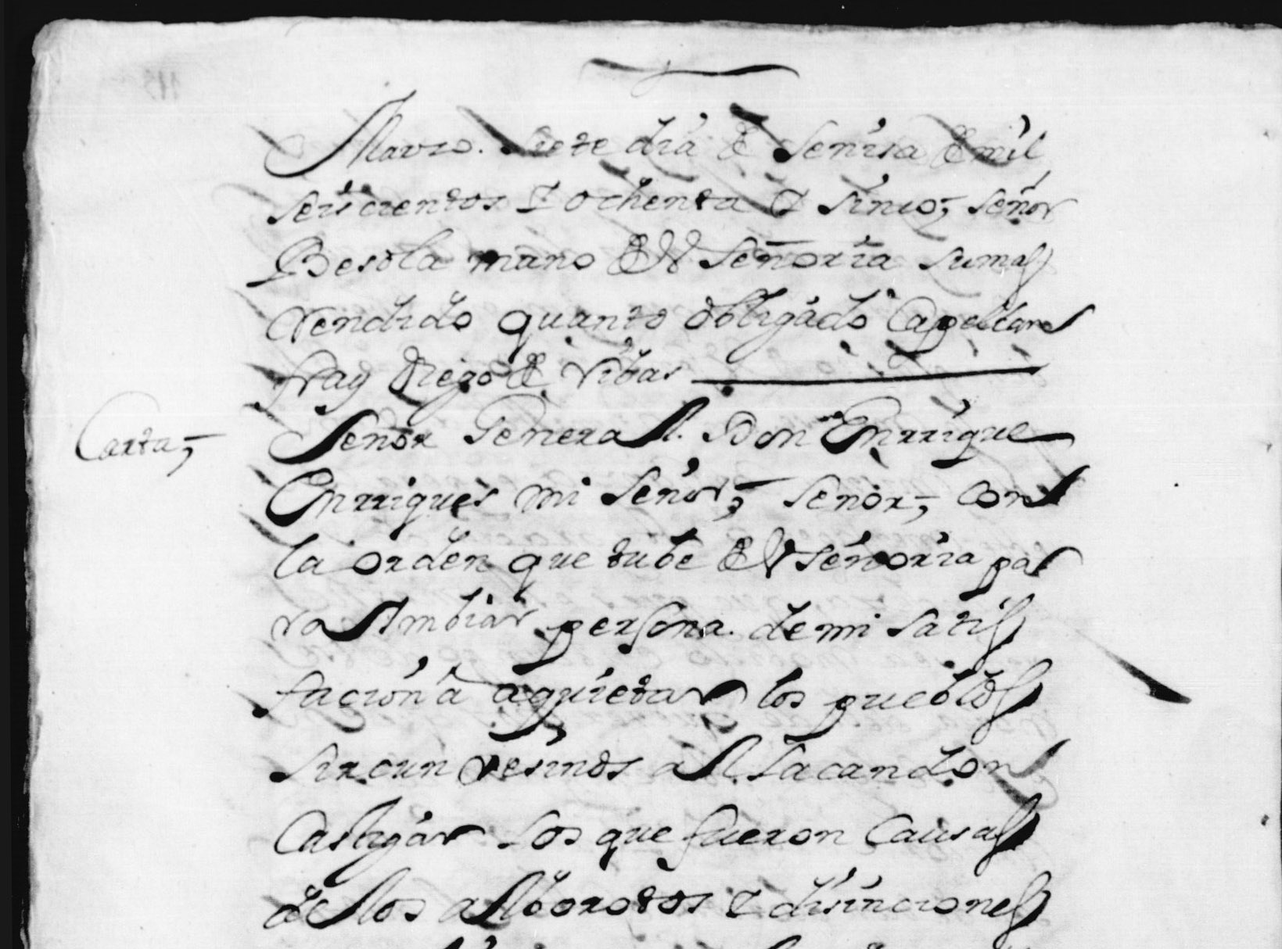lacandon: (746, 738, 1071, 781)
